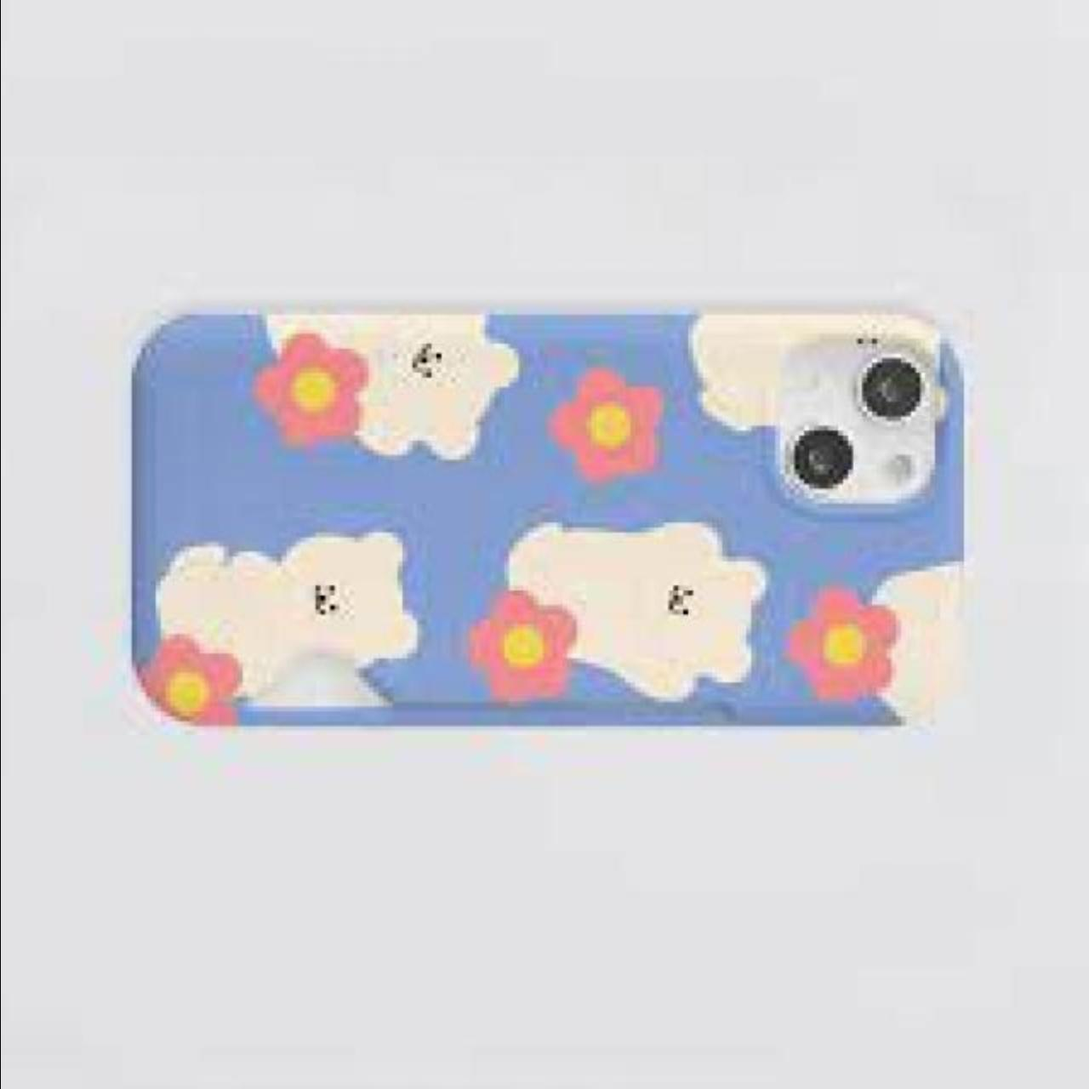phone: (131, 306, 978, 737)
